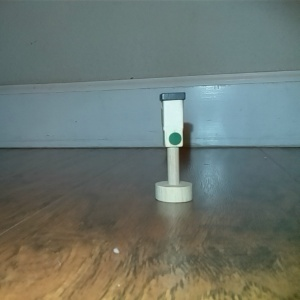traffic light green: (152, 89, 194, 205)
